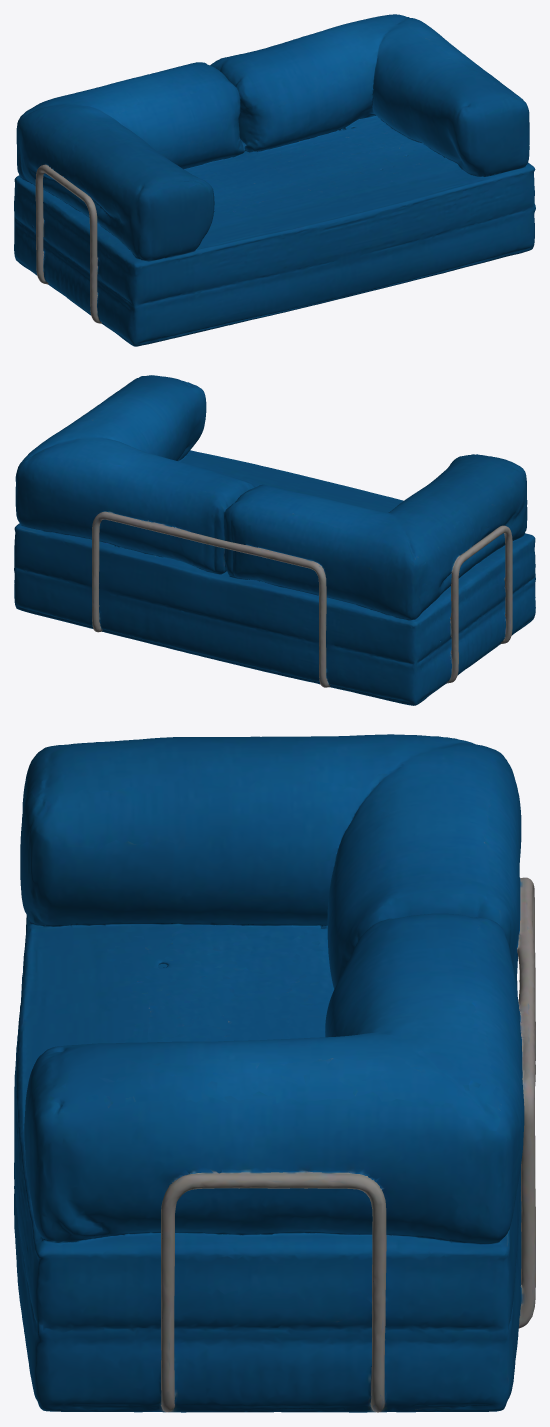
File: twin-bed.glb
The picture shows the model from 3 angles, top to bottom: view 1: azimuth 30°, elevation 25°; view 2: azimuth 150°, elevation 25°; view 3: azimuth 270°, elevation 25°; orthographic projection. The views are drawn at different scales.
Visible parts, largest first — view 1: world; view 2: world; view 3: world.
Boxes of the visible parts, x1=… form: world: x1=14, y1=14, x2=535, y2=346; world: x1=14, y1=375, x2=535, y2=705; world: x1=14, y1=734, x2=535, y2=1412.
Size of the model in its own units: 0.9886 by 0.3768 by 0.5432.
1 material, 1 textured.
